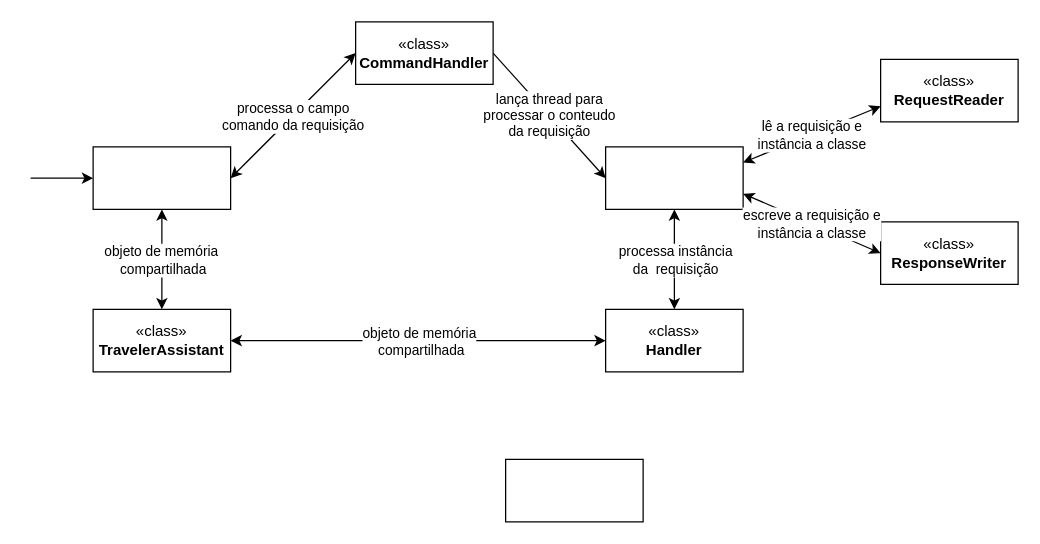
Image size: 1040x544. Some labels were removed from this diagram. Here are the shapes that lost their labels. From the top down, the centre of each, then its label:
At point (161, 177): "«class» Server".
At point (673, 177): "«class» ContentHandler".
At point (573, 490): "«class» biluteteia".
